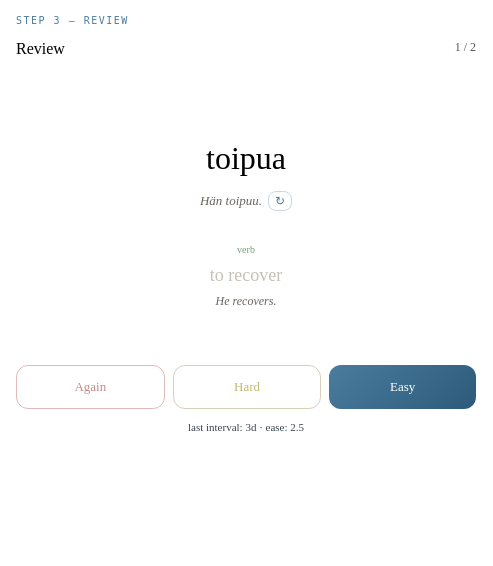
ReviewStage – example suggestions › shows the suggestion and its translation
Click the button named "suggest a different example". click: [280, 200]
box: [268,190,292,210]
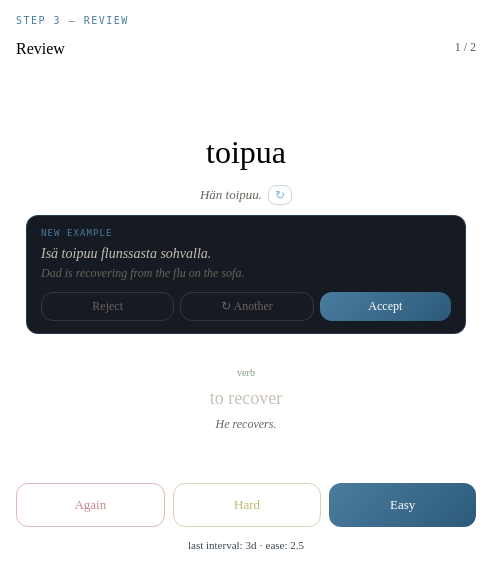
expect the text "Isä toipuu flunssasta sohvalla." is shown: met, box [41,246,211,261]
expect the text "Dad is recovering from the flu on the sofa." is shown: met, box [41,266,244,280]
